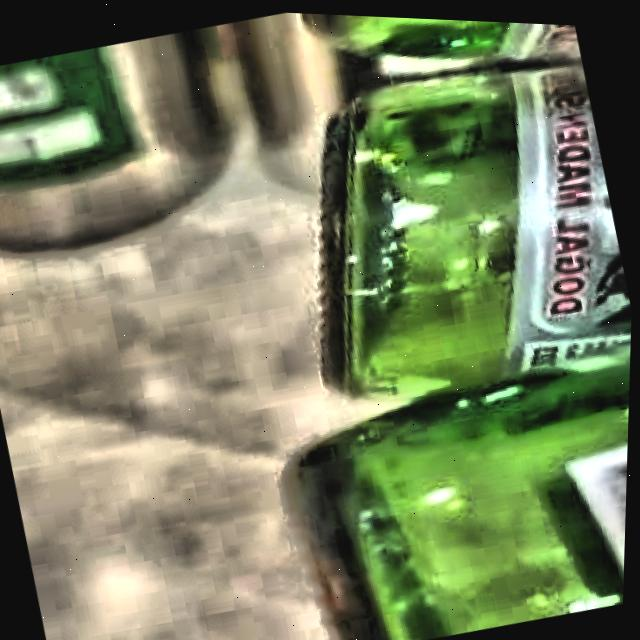glass: (292, 11, 633, 640)
